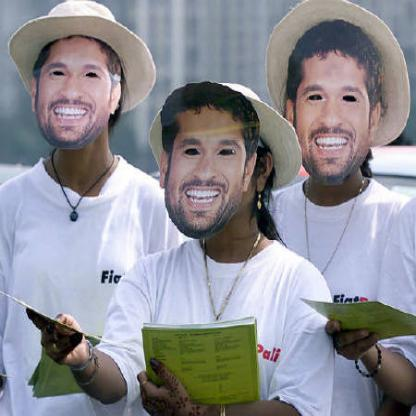face: (293, 24, 375, 187), (164, 85, 249, 241), (34, 19, 116, 152)
